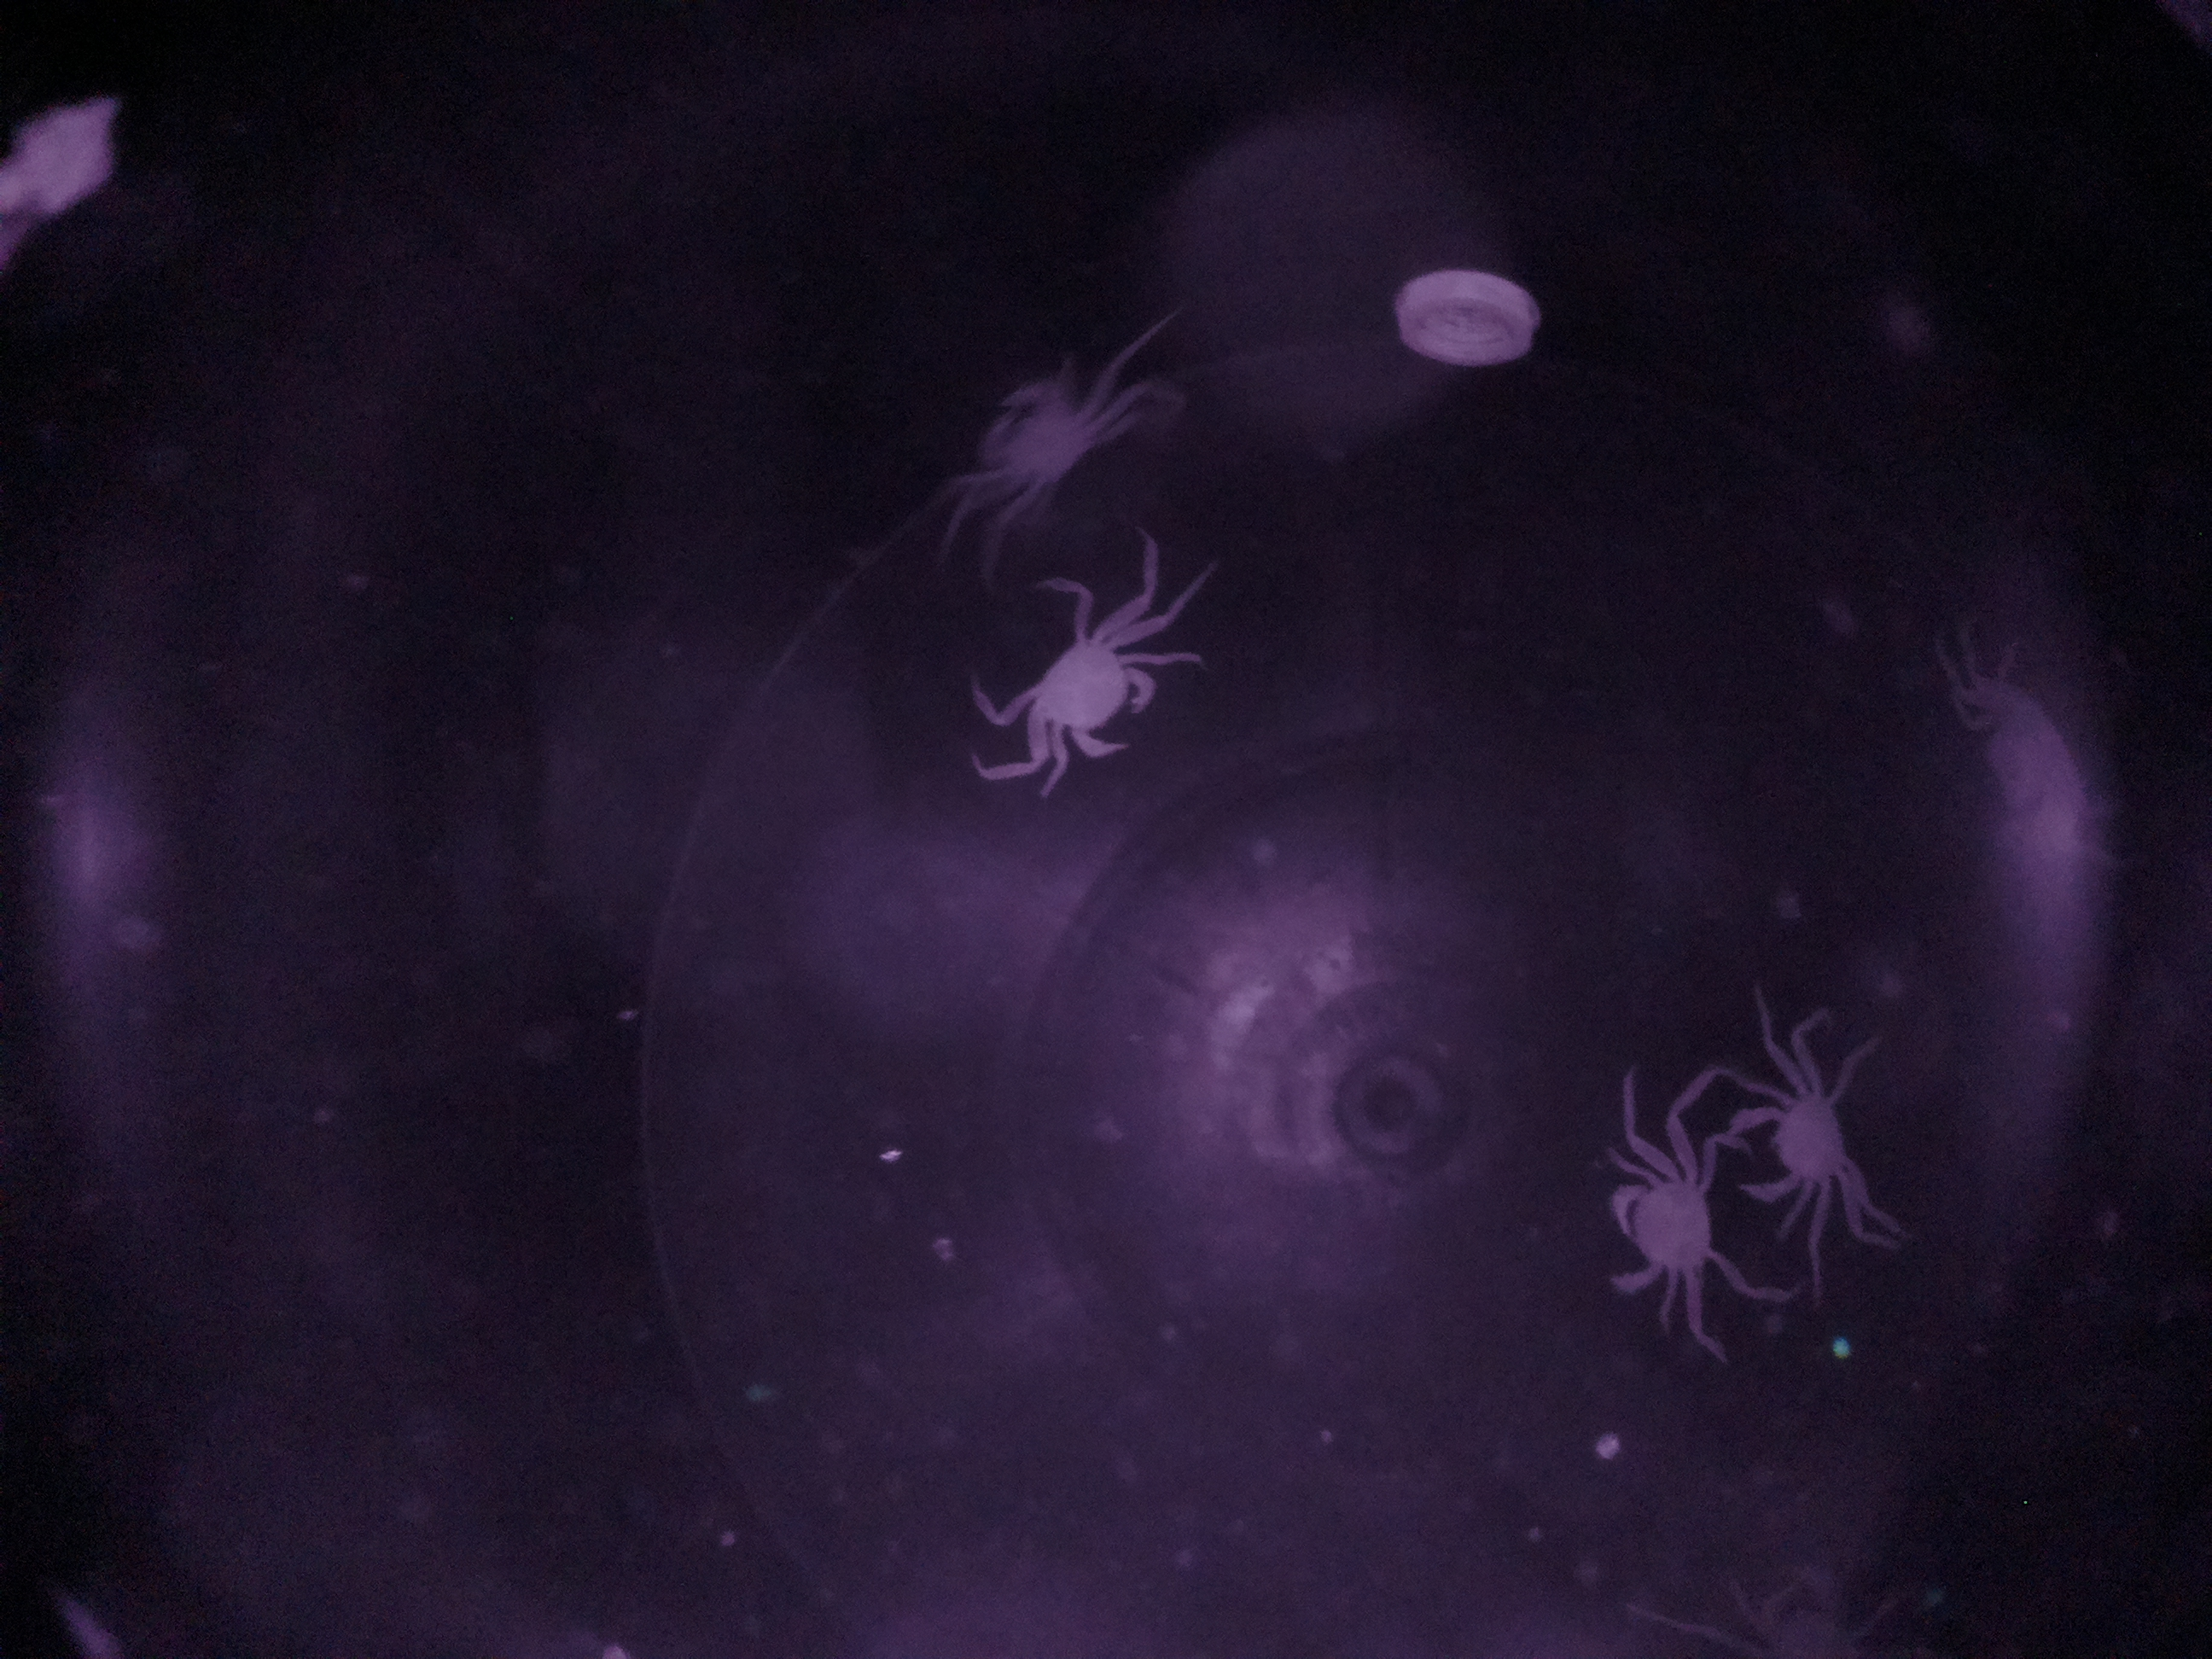Crab: (998, 589, 1167, 795), (1590, 1108, 1749, 1323), (1740, 1023, 1898, 1232)
